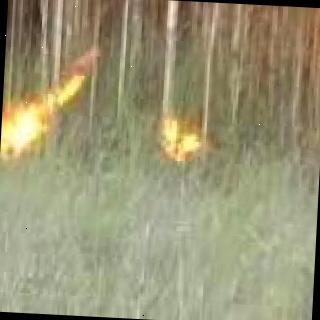fire: (0, 75, 89, 159), (160, 119, 207, 172)
